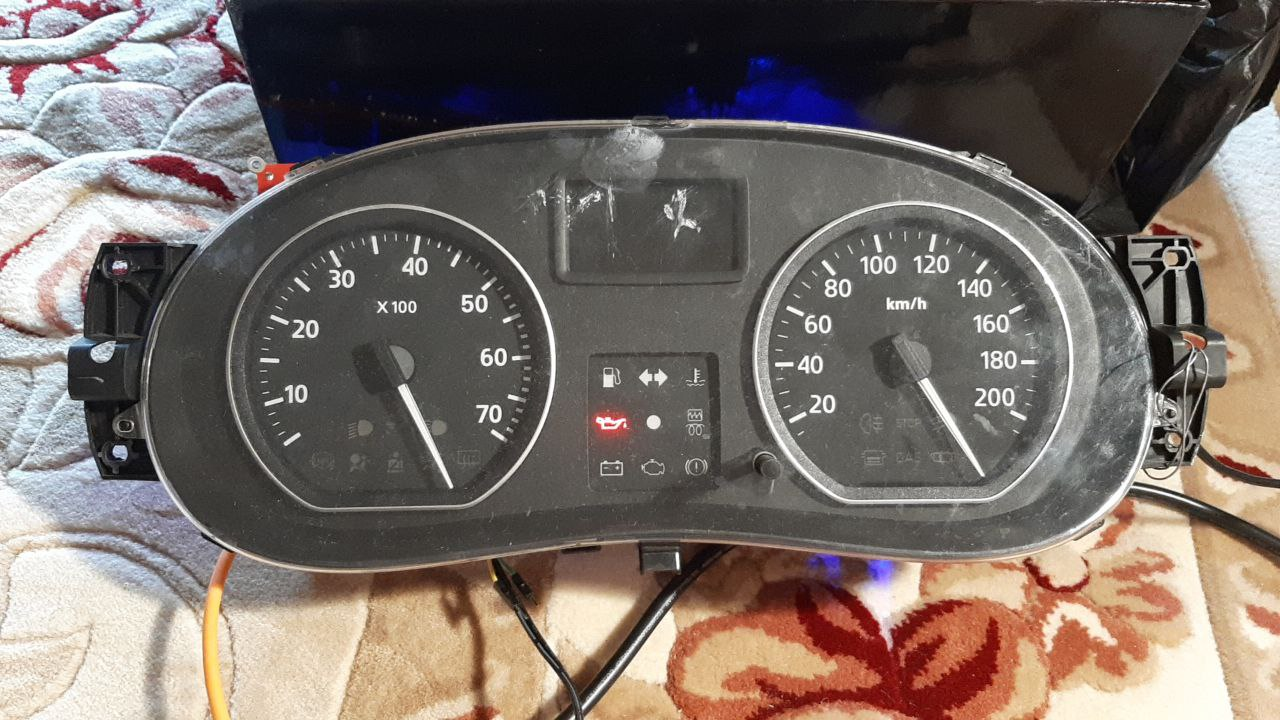oil: (590, 412, 630, 436)
